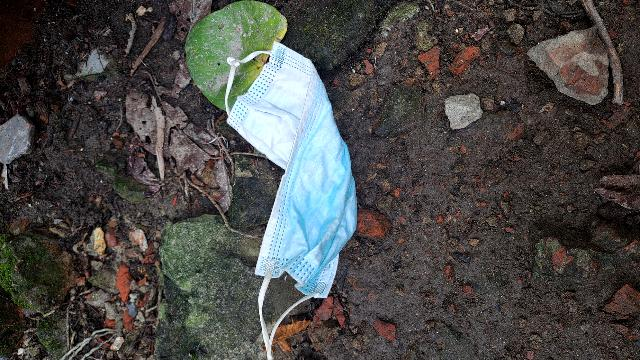mask: (217, 39, 367, 325)
